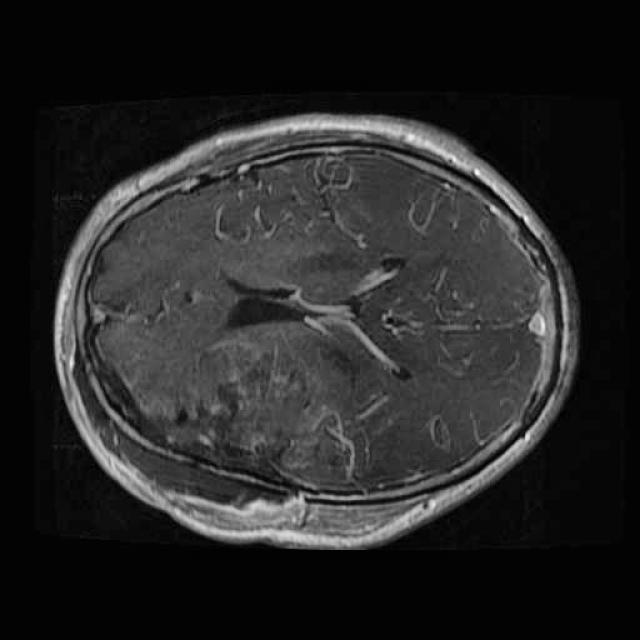Tumor: (145, 342, 367, 512)
